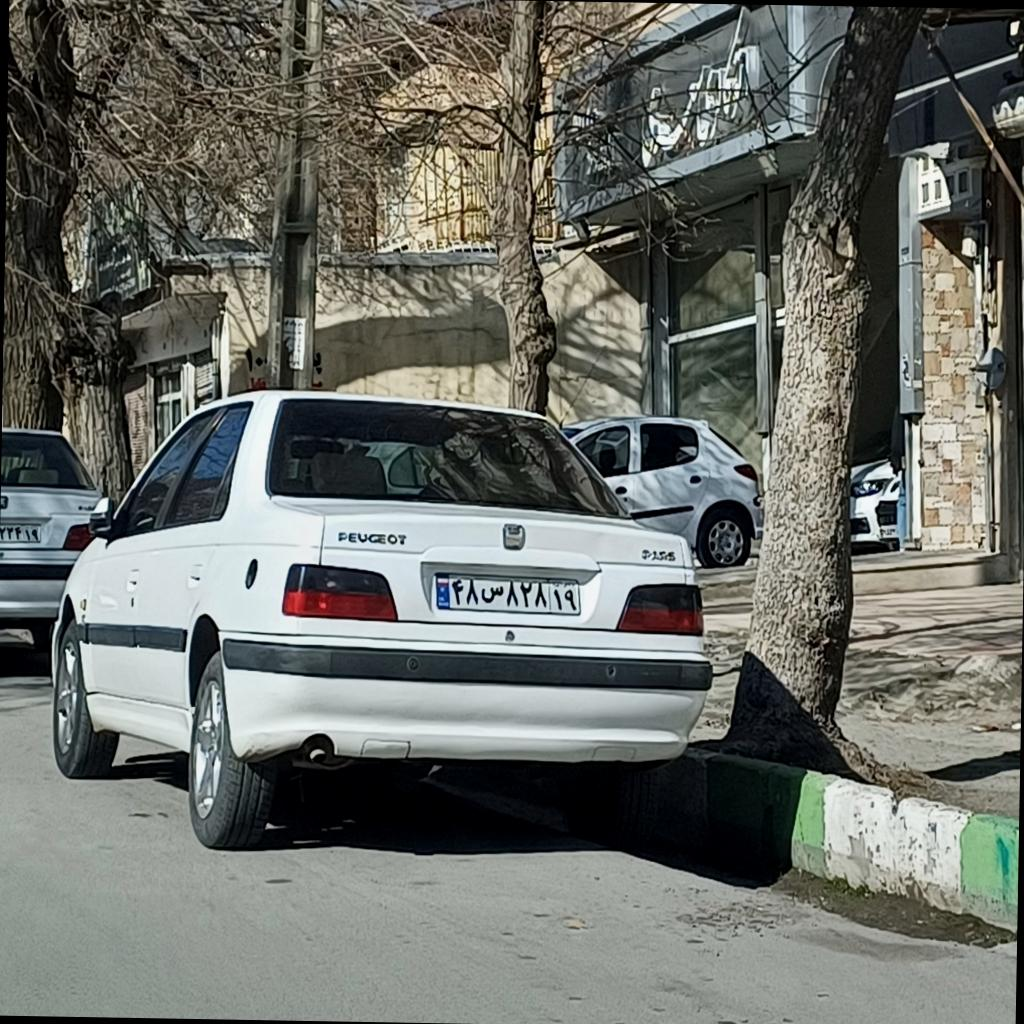Plates: (434, 570, 580, 614)
